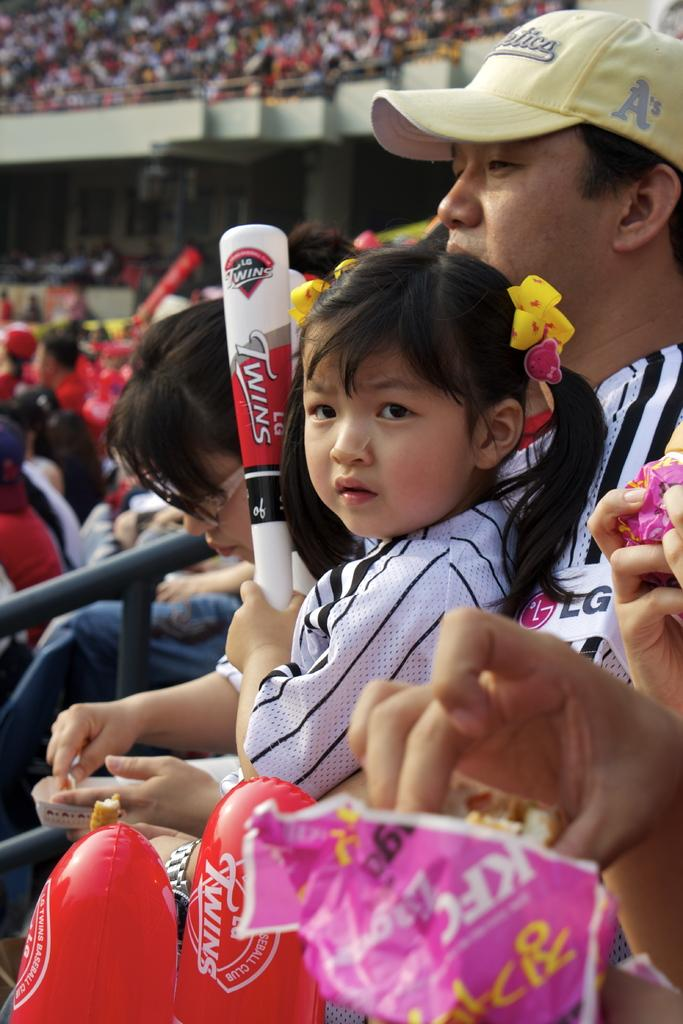Hat: (369, 3, 682, 175)
